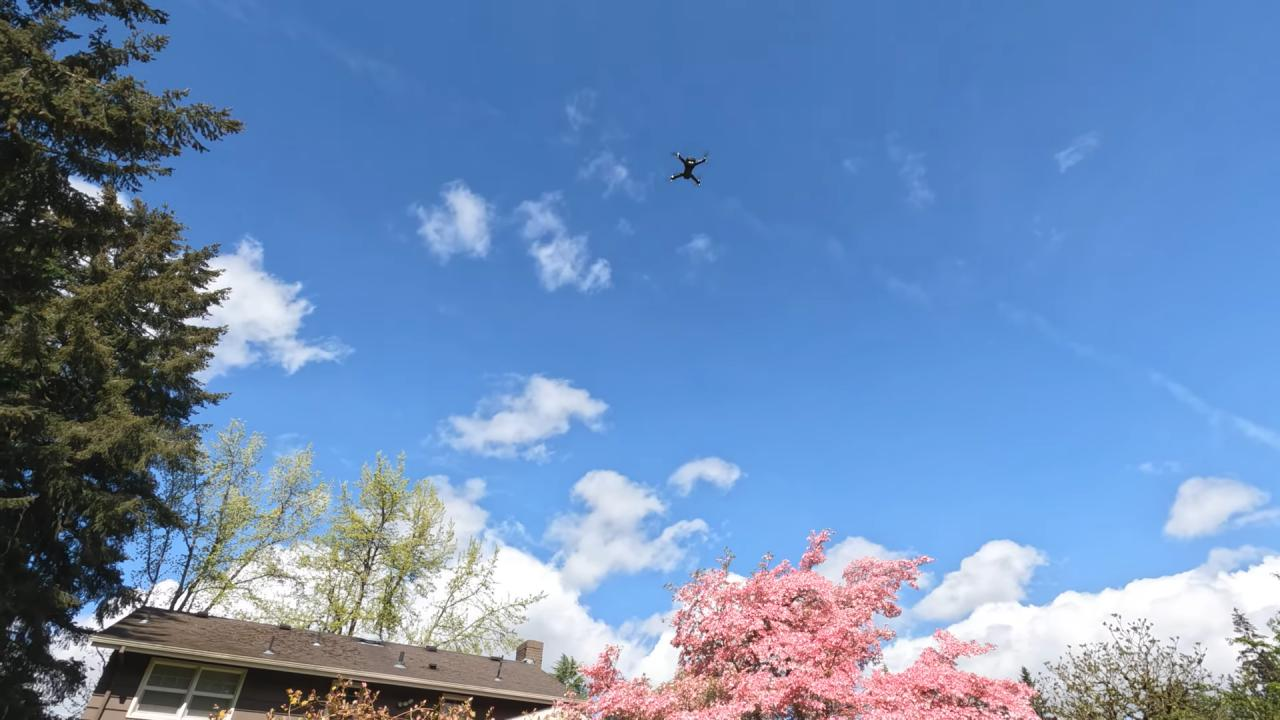Drone: (658, 139, 719, 197)
